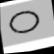no answer: (4, 6, 43, 38)
